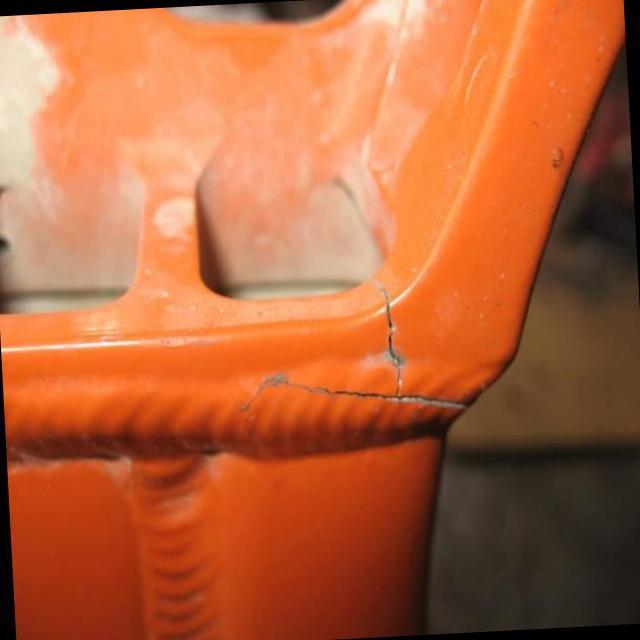defect: (232, 274, 469, 419)
